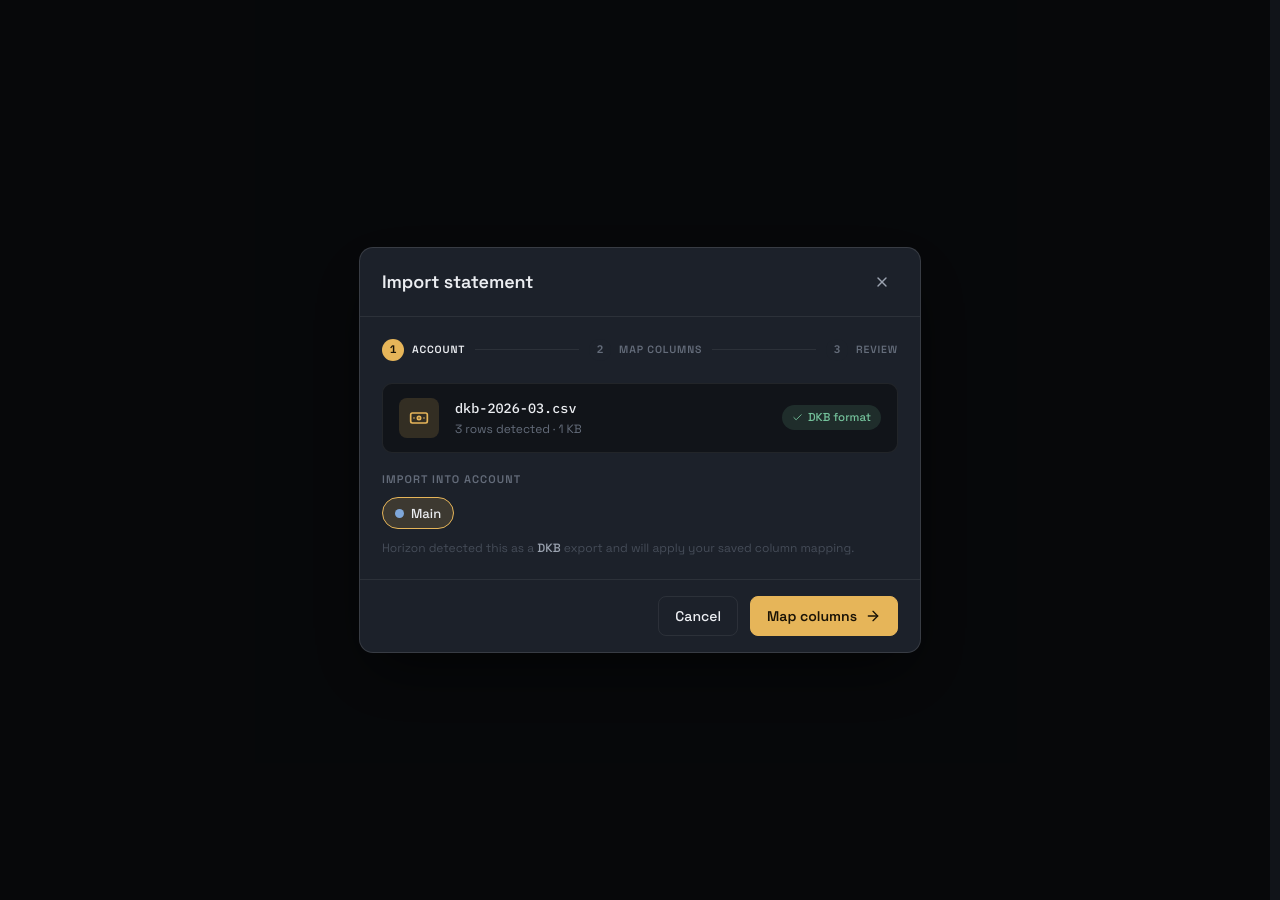
Scenario: ImportWizard — Category Proposals (#262) › shows one strip per proposed category with its name and row count
Click the button "Map columns". click: click(824, 616)
box: [750,596,898,636]
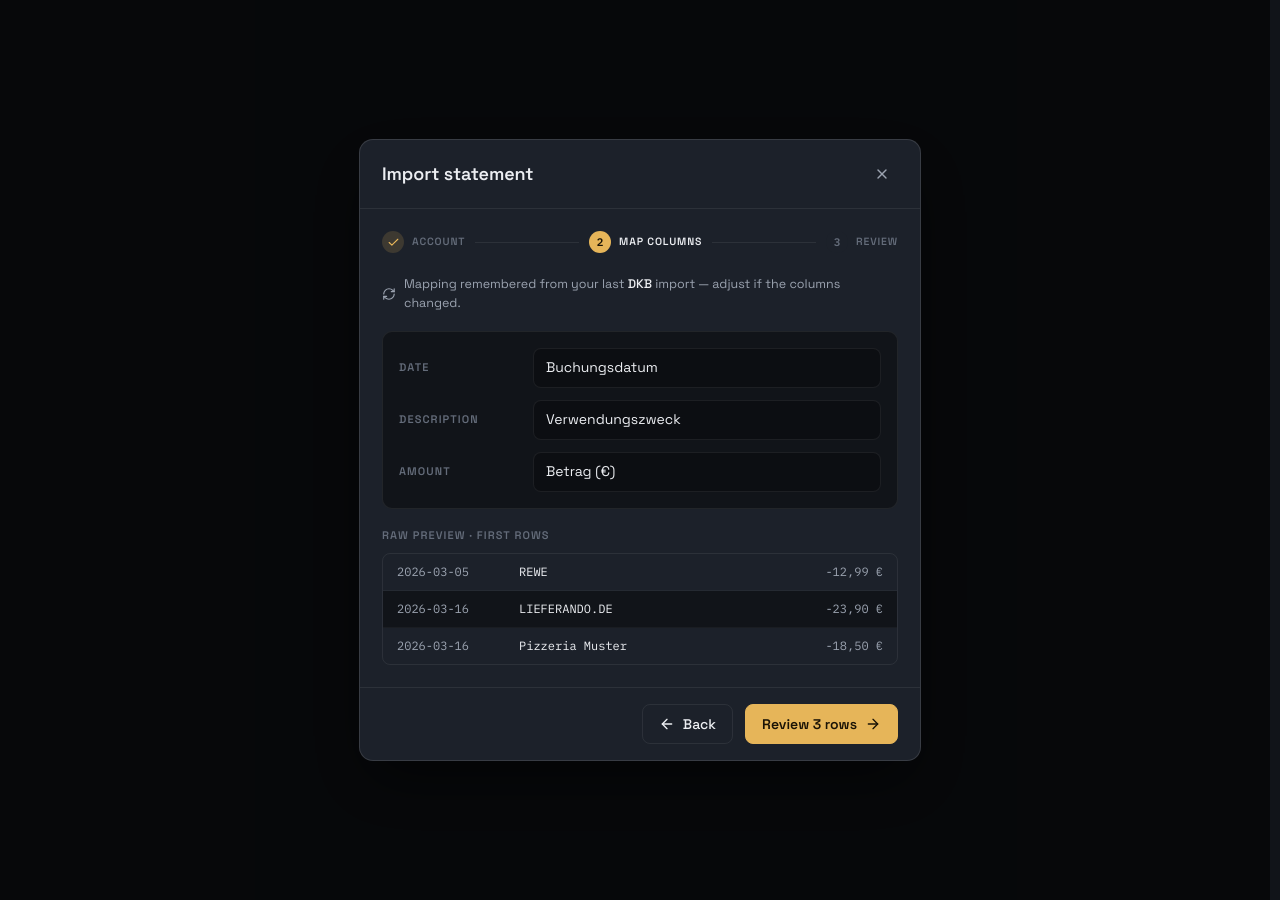
Click the button "Review 3 rows". click: click(822, 724)
box: [745,704,898,744]
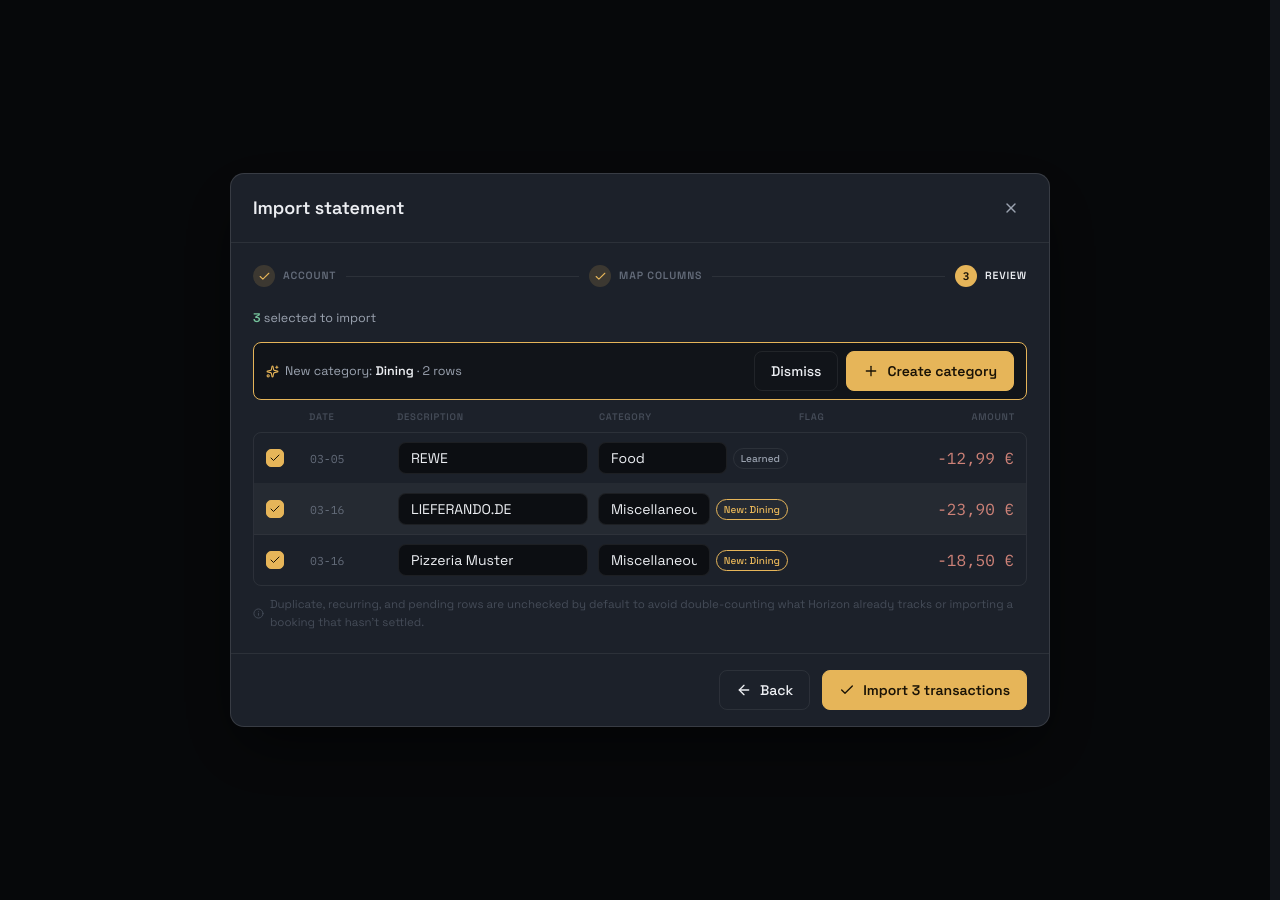
Now the dropdown named "category" next to "Learned" is enabled, box [598,442,727,474]
Now the dropdown named "category" in the row of "-23,90 €" is enabled, box [598,493,710,525]
Now the dropdown named "category" in the row of "-18,50 €" is enabled, box [598,544,710,576]
